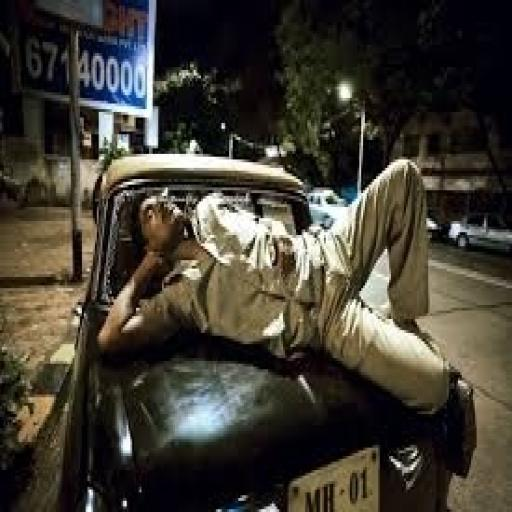sleeping: (95, 154, 478, 478)
